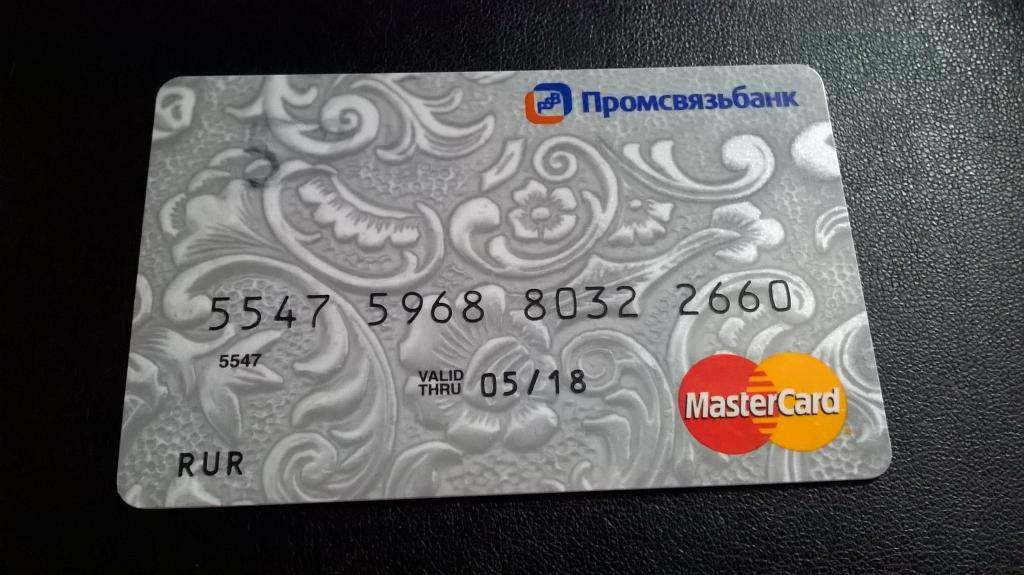card: (116, 64, 895, 511)
